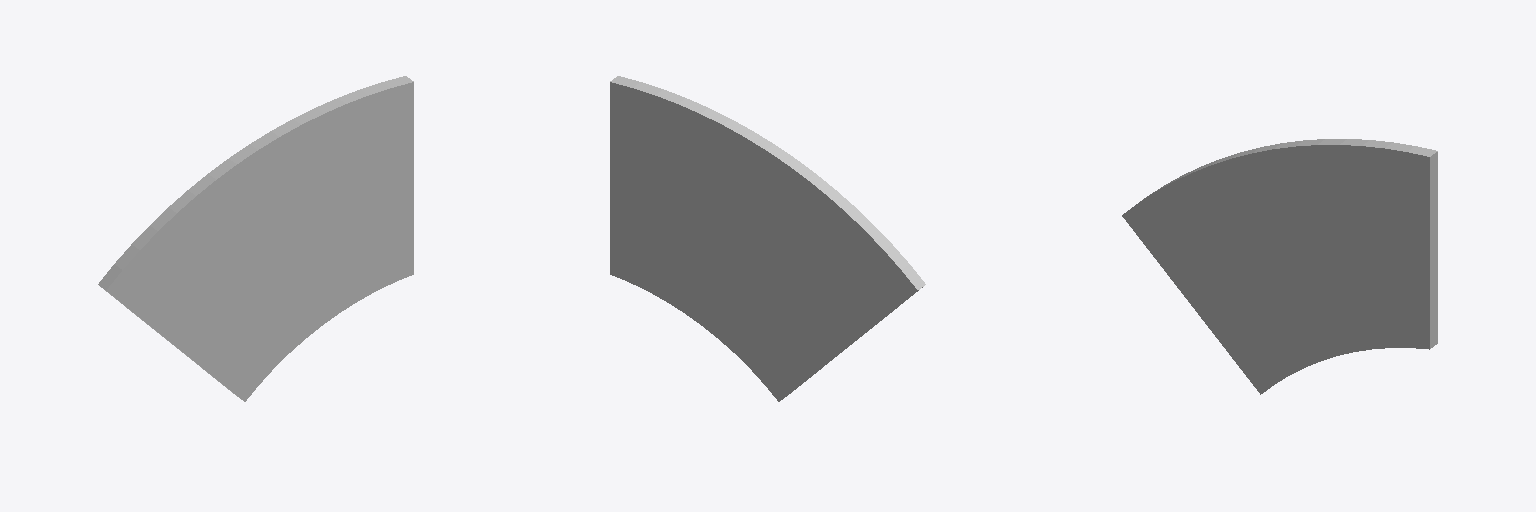
The model's file is DFlag Round Square C2.obj.
3 renders of one model, left to right at view 1: azimuth 30°, elevation 25°; view 2: azimuth 150°, elevation 25°; view 3: azimuth 330°, elevation 25°, orthographic.
Parts seen in each view (by area): view 1: DFlag_Round_Square_C2; view 2: DFlag_Round_Square_C2; view 3: DFlag_Round_Square_C2.
Boxes of the visible parts, <box> form: DFlag_Round_Square_C2: <box>98,76,413,401</box>; DFlag_Round_Square_C2: <box>610,76,925,401</box>; DFlag_Round_Square_C2: <box>1122,139,1437,394</box>.
Bounding box in the file's own units: 0.0212 × 0.0184 × 0.001.